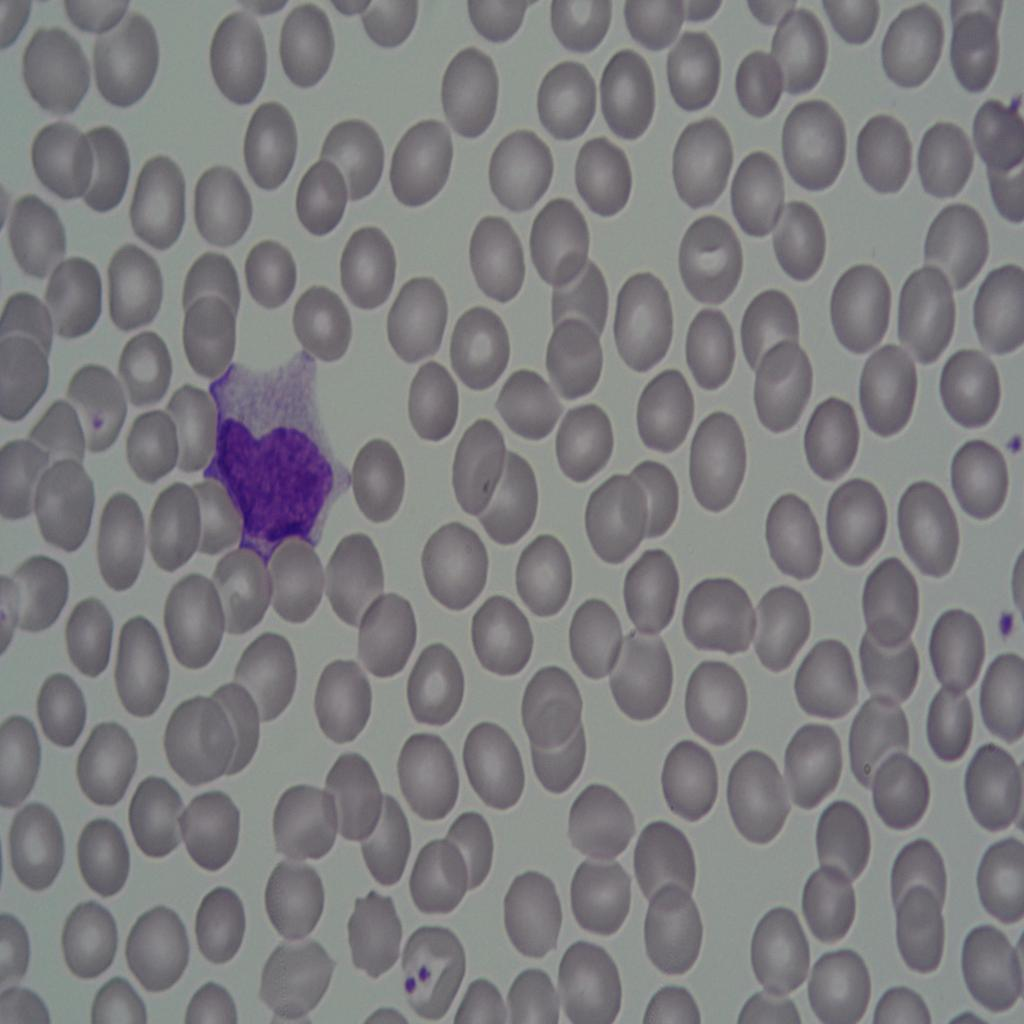Myeoblast: (197, 348, 349, 554)
Platelet: (983, 602, 1024, 652), (411, 956, 439, 987), (399, 964, 420, 1004), (85, 409, 110, 439), (1002, 429, 1024, 461)
